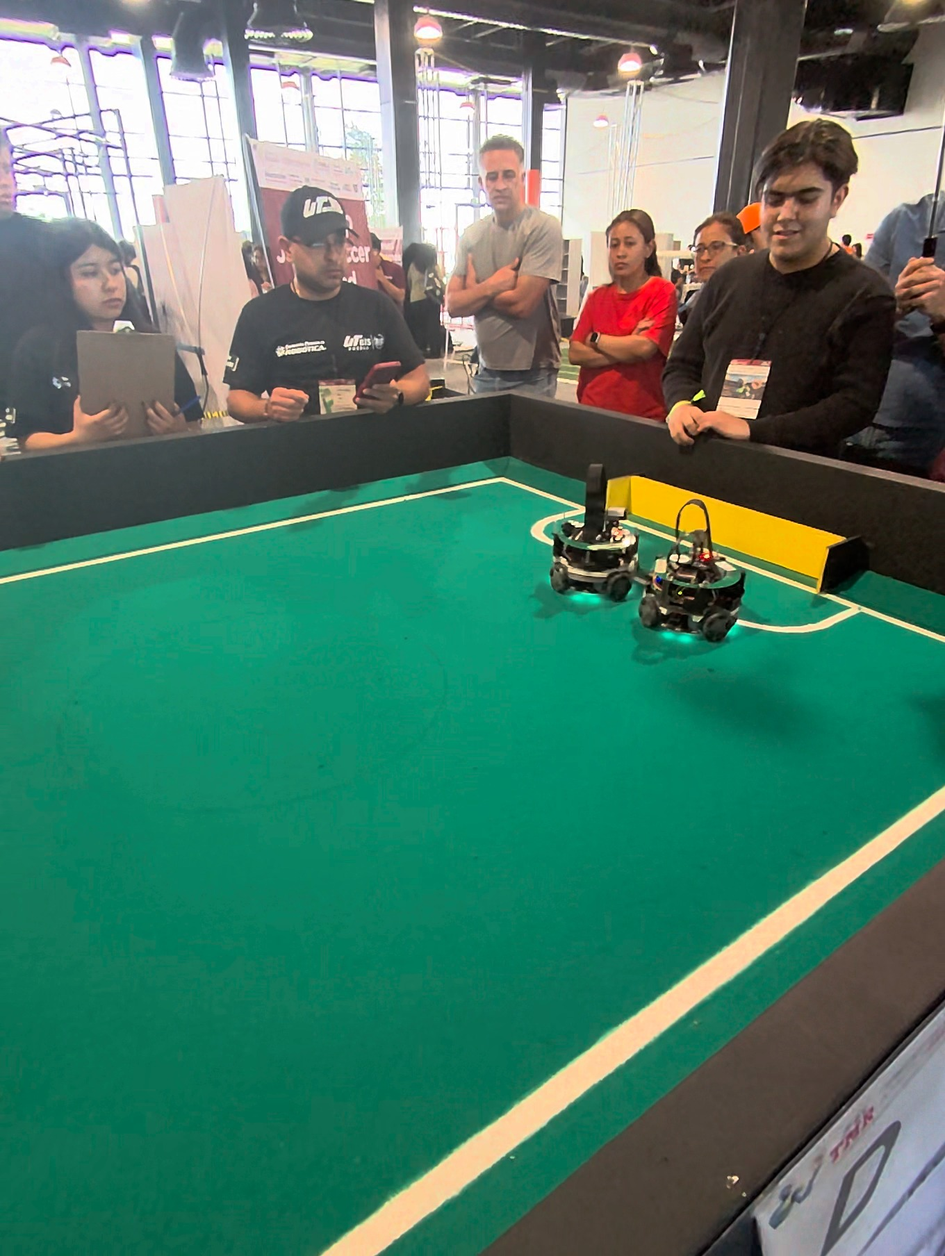Robot: (641, 489, 748, 649), (552, 461, 641, 606)
